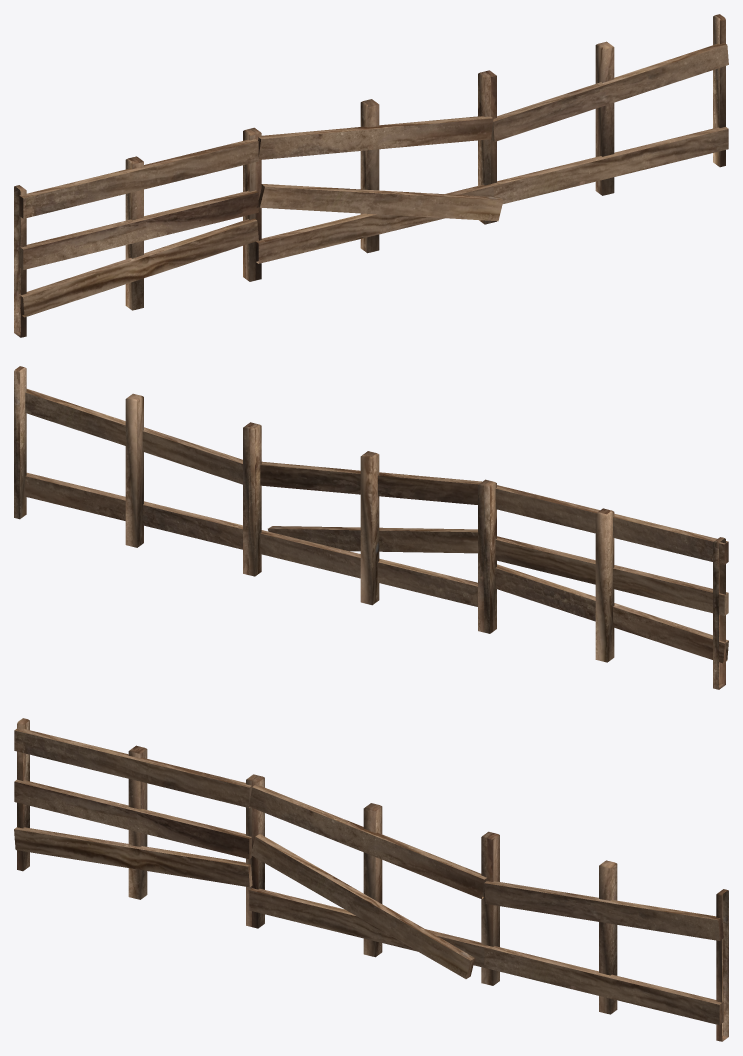
The model's file is Fence.fbx.
The picture shows the model from 3 angles, top to bottom: view 1: azimuth 30°, elevation 25°; view 2: azimuth 150°, elevation 25°; view 3: azimuth 330°, elevation 25°; orthographic projection.
Visible parts, largest first — view 1: Poles; view 2: Poles; view 3: Poles.
Part boxes in pixels (x1,y1,x2,y2): Poles: (14,14,728,337); Poles: (14,366,728,689); Poles: (14,718,728,1041).
Bounding box in the file's own units: 1504 × 300 × 79.07.
1 material, 1 textured.
